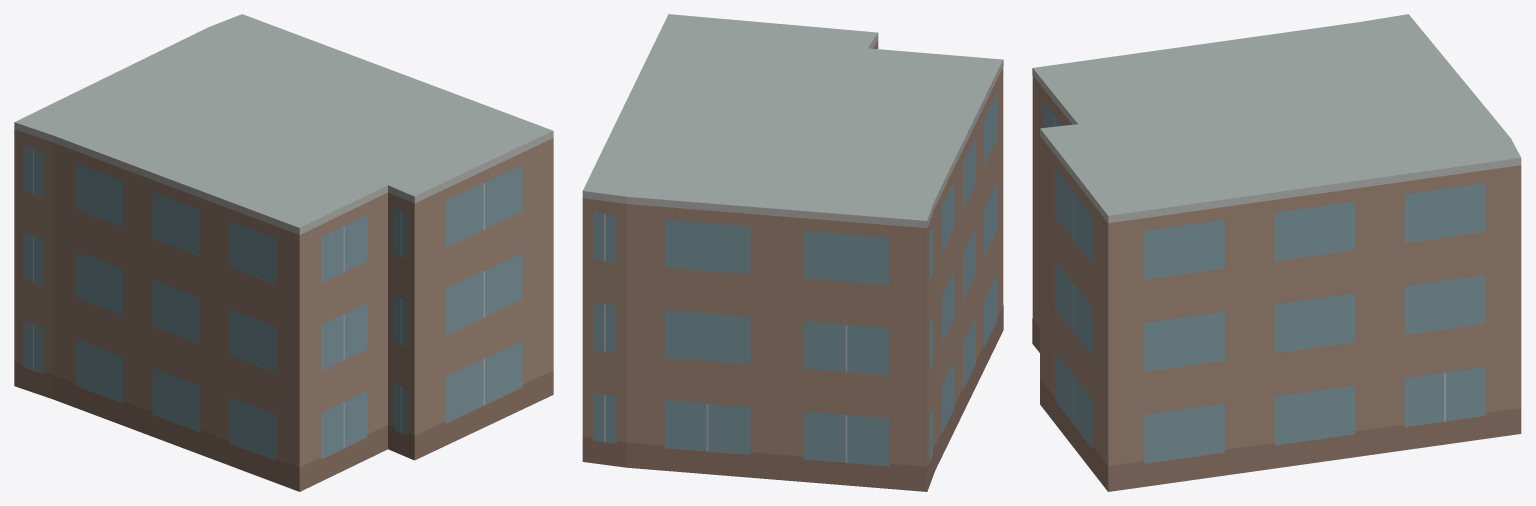
The model's file is survey-upis-32675591.glb.
3 renders of one model, left to right at view 1: azimuth 30°, elevation 25°; view 2: azimuth 150°, elevation 25°; view 3: azimuth 270°, elevation 25°, orthographic. The views are drawn at different scales.
Parts seen in each view (by area): view 1: survey-upis-32675591.tmp; view 2: survey-upis-32675591.tmp; view 3: survey-upis-32675591.tmp.
Part boxes in pixels (x1,y1,x2,y2): survey-upis-32675591.tmp: (14,14,553,491); survey-upis-32675591.tmp: (582,14,1003,491); survey-upis-32675591.tmp: (1032,14,1521,491).
Bounding box in the file's own units: 14.37 × 9.15 × 14.7.
